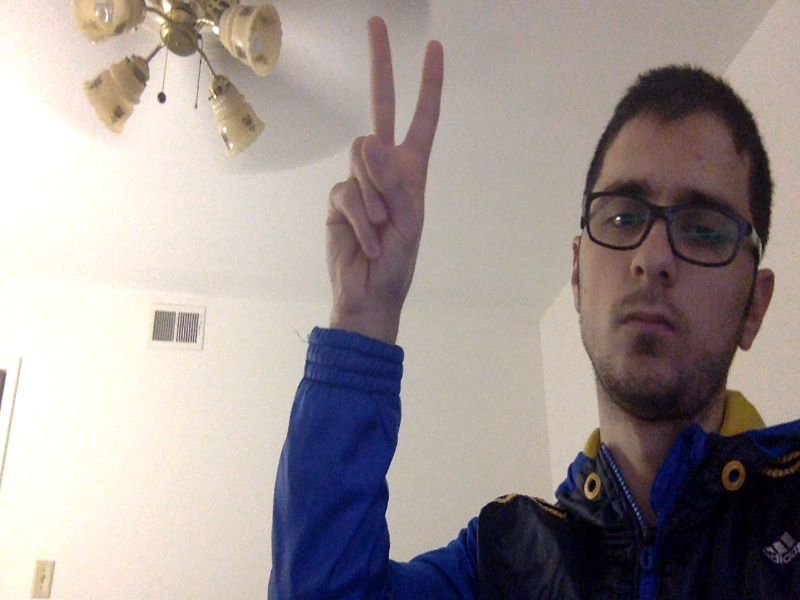2-hand: (325, 17, 442, 304)
